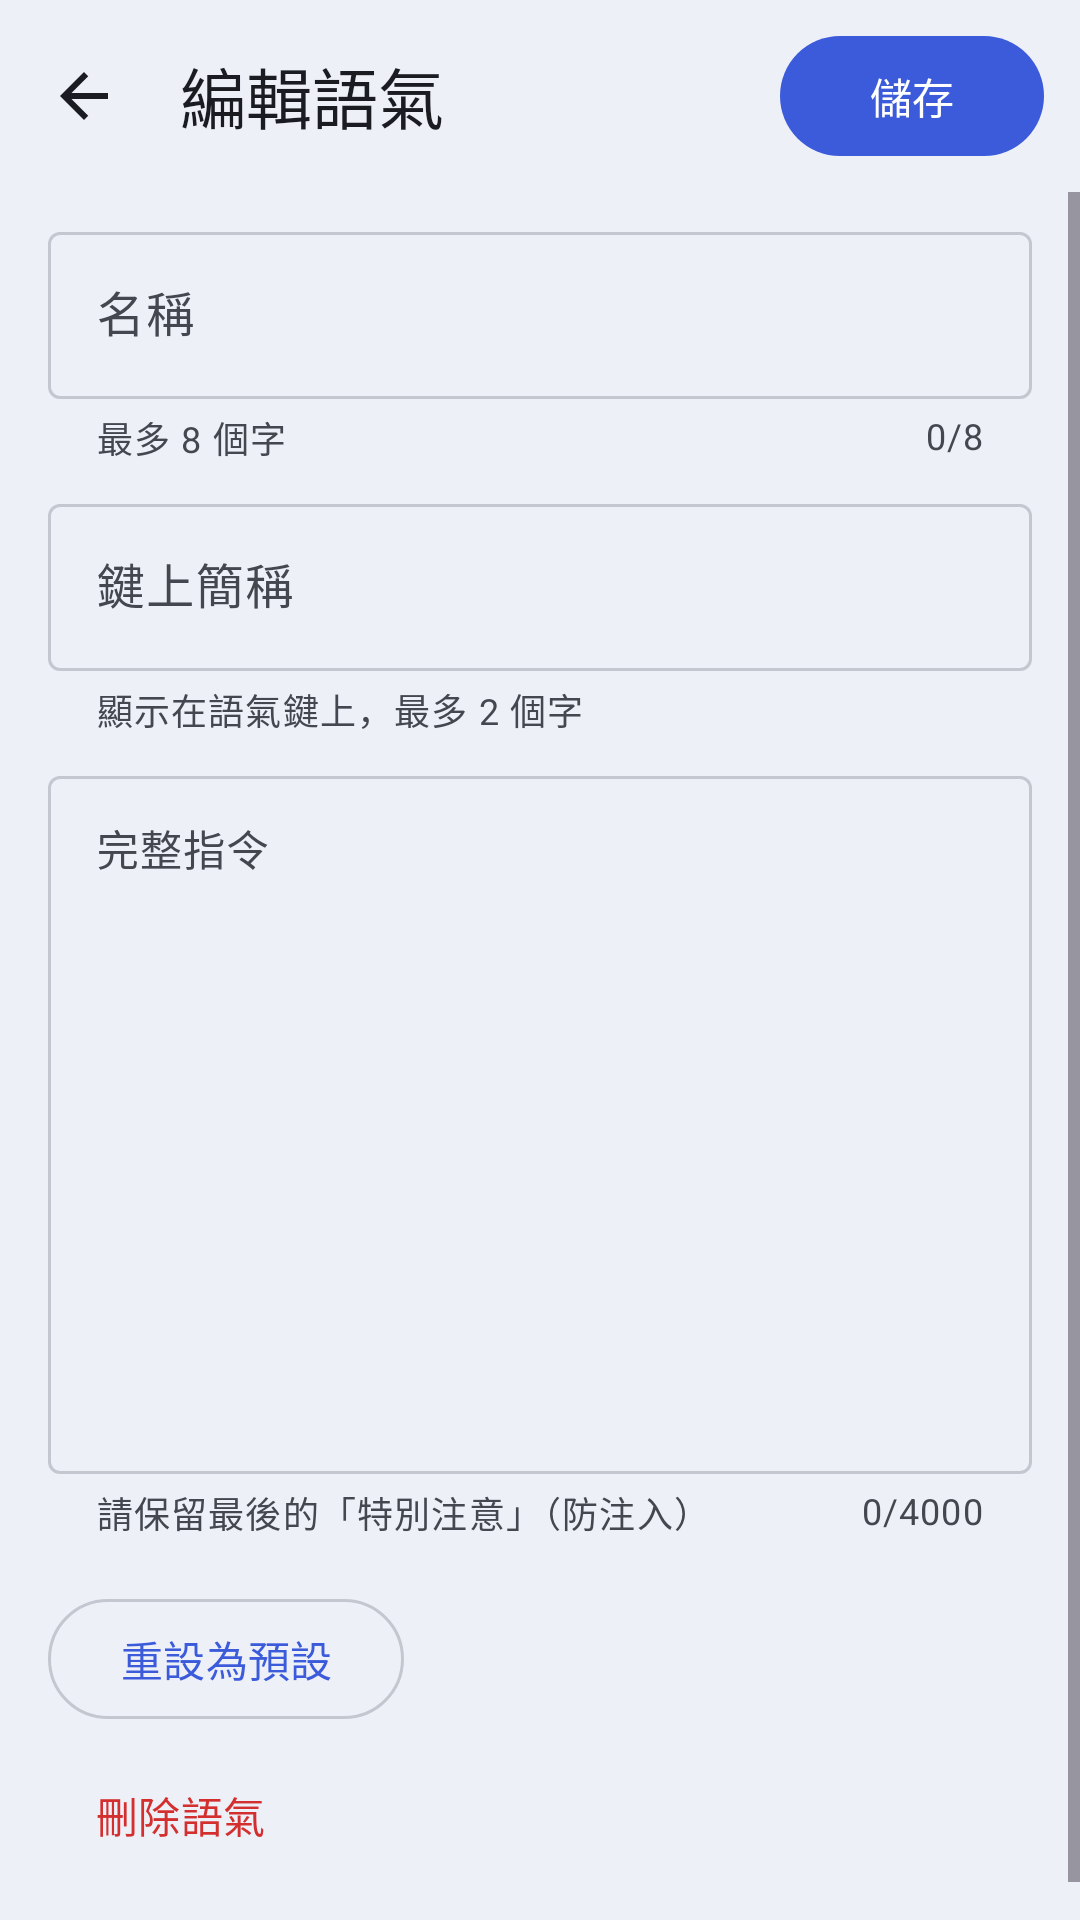

Where to tap for icons on this 1080px x 1920px app screen, as (x,y):
返回: (84,96)
